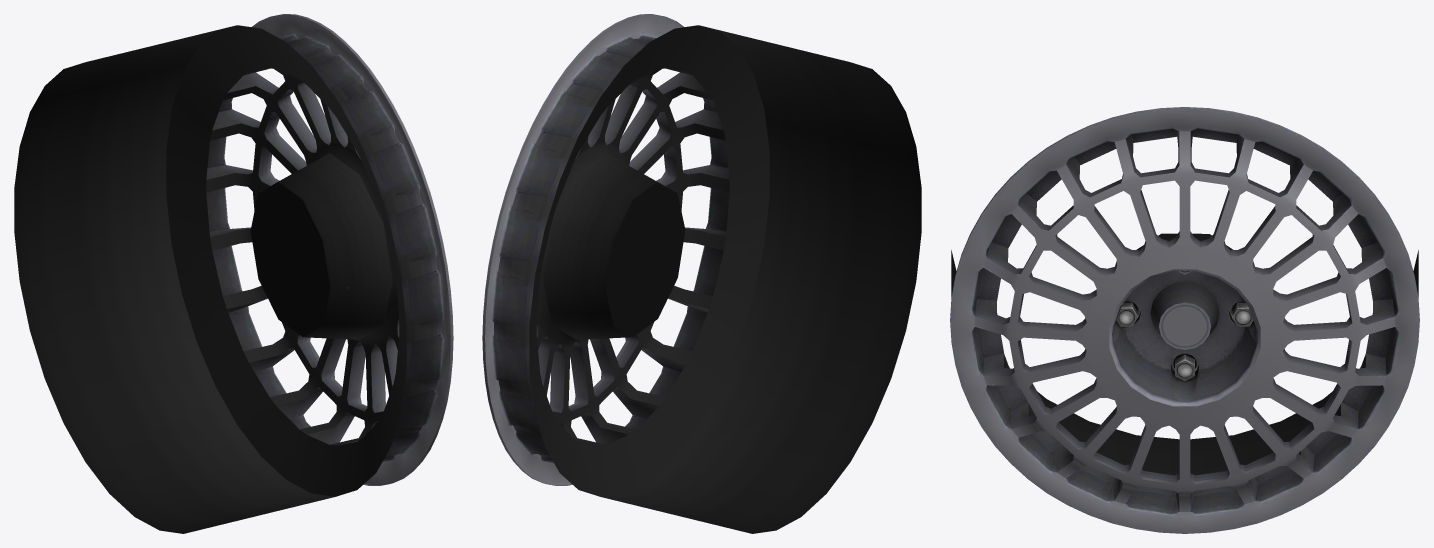
The model's file is wheel38.fbx.
3 views of the same model, side by side, from view 1: azimuth 30°, elevation 25°; view 2: azimuth 150°, elevation 25°; view 3: azimuth 270°, elevation 25° (orthographic). The views are drawn at different scales.
Parts seen in each view (by area): view 1: com_th2_wheel_wheel_inner_rim_, wheel_rim, com_th2_wheel_wheel_rim_; view 2: com_th2_wheel_wheel_inner_rim_, wheel_rim, com_th2_wheel_wheel_rim_; view 3: com_th2_wheel_wheel_rim_, wheel_rim, com_th2_wheel_wheel_inner_rim_, com_th2_wheel_wheel_chrome_rim_.
Boxes of the visible parts, x1=… form: com_th2_wheel_wheel_inner_rim_: x1=14, y1=25, x2=406, y2=533; wheel_rim: x1=206, y1=14, x2=453, y2=485; com_th2_wheel_wheel_rim_: x1=206, y1=37, x2=441, y2=444; com_th2_wheel_wheel_inner_rim_: x1=529, y1=25, x2=921, y2=533; wheel_rim: x1=482, y1=14, x2=729, y2=485; com_th2_wheel_wheel_rim_: x1=494, y1=56, x2=729, y2=459; com_th2_wheel_wheel_rim_: x1=973, y1=129, x2=1394, y2=512; wheel_rim: x1=950, y1=107, x2=1419, y2=533; com_th2_wheel_wheel_inner_rim_: x1=951, y1=233, x2=1418, y2=475; com_th2_wheel_wheel_chrome_rim_: x1=1116, y1=270, x2=1253, y2=380.
Size of the model in its own units: 0.2684 by 0.48 by 0.48.
Materials: 1 (1 with a texture image).
